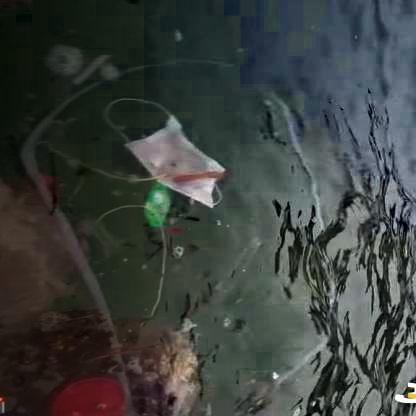Mask: (92, 93, 274, 222)
